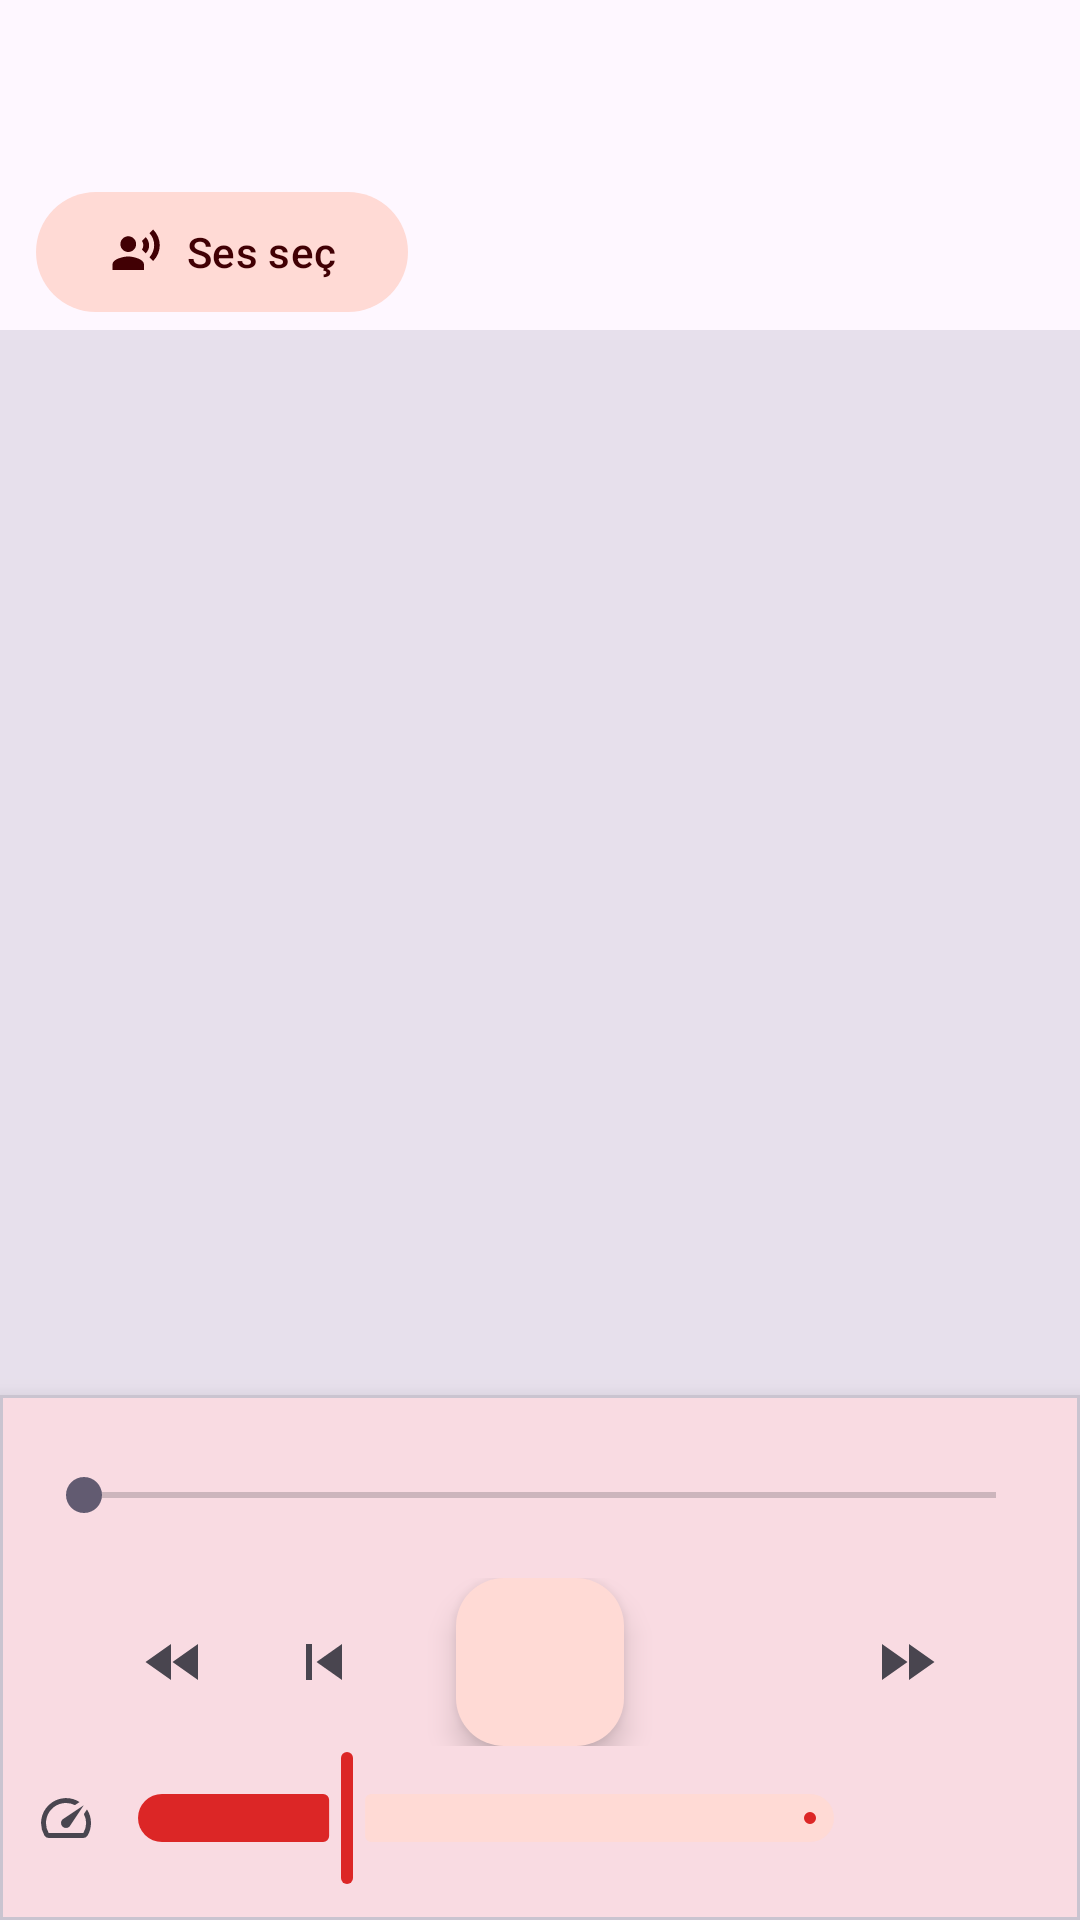

Named icons in this screenshot (1080px x 1920px) and their centers, (x=x, y=y):
Hız: (x=66, y=1818)
Sonraki paragraf: (x=908, y=1662)
Önceki cümle: (x=324, y=1662)
Önceki paragraf: (x=172, y=1662)
